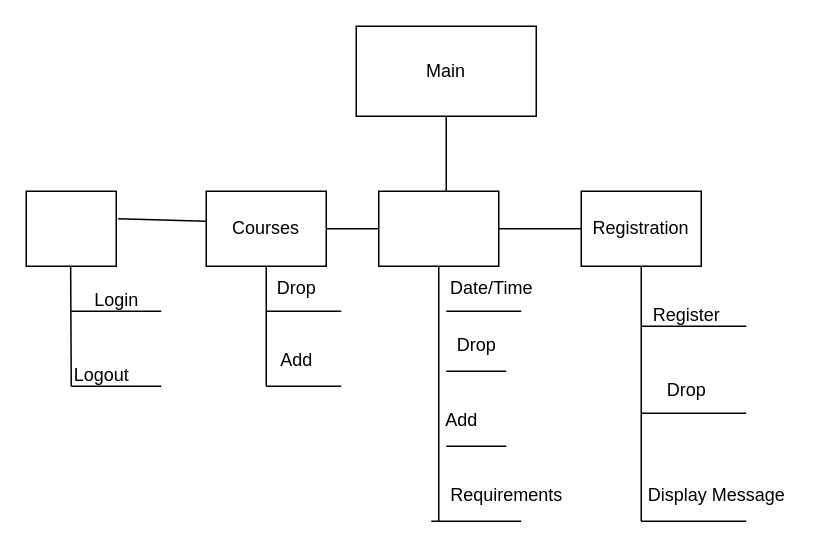
Image size: 825x549. Some labels were removed from this diagram. The shapes that lost their labels are listed below. From the top down, each one's box as (x1, y1, x2, y2) in pixels, then its label:
(25, 190, 116, 266): Students
(377, 190, 499, 266): Sections
